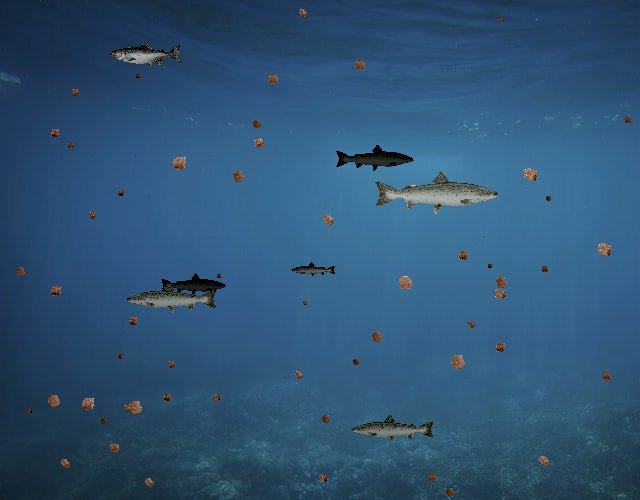Fish: (372, 169, 501, 215), (125, 282, 219, 316), (350, 413, 436, 444), (334, 144, 415, 173), (111, 42, 184, 68), (160, 272, 228, 297), (290, 261, 337, 278)
Pellet: (165, 150, 193, 178), (316, 208, 340, 232), (226, 164, 250, 188), (247, 132, 270, 155), (10, 261, 31, 282), (84, 207, 100, 223), (542, 192, 555, 205), (23, 405, 35, 417)
